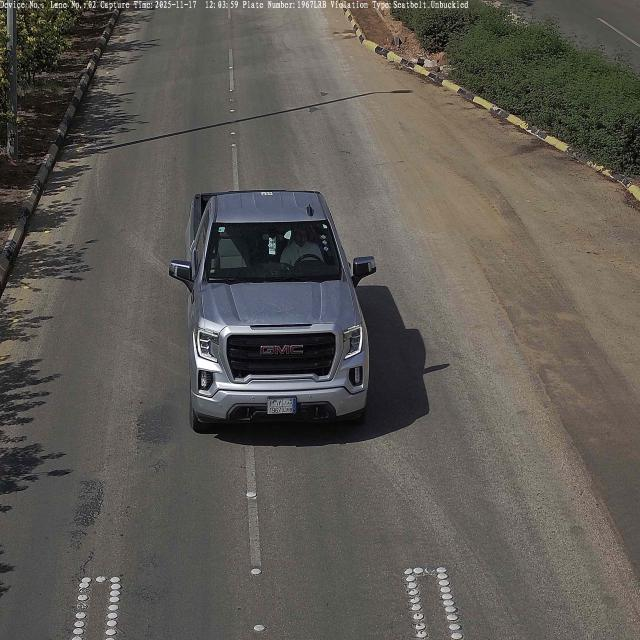person_without_seatbelt: (281, 226, 322, 266)
